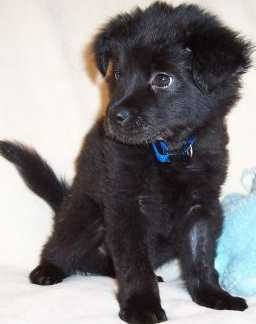dog: (43, 0, 243, 290)
